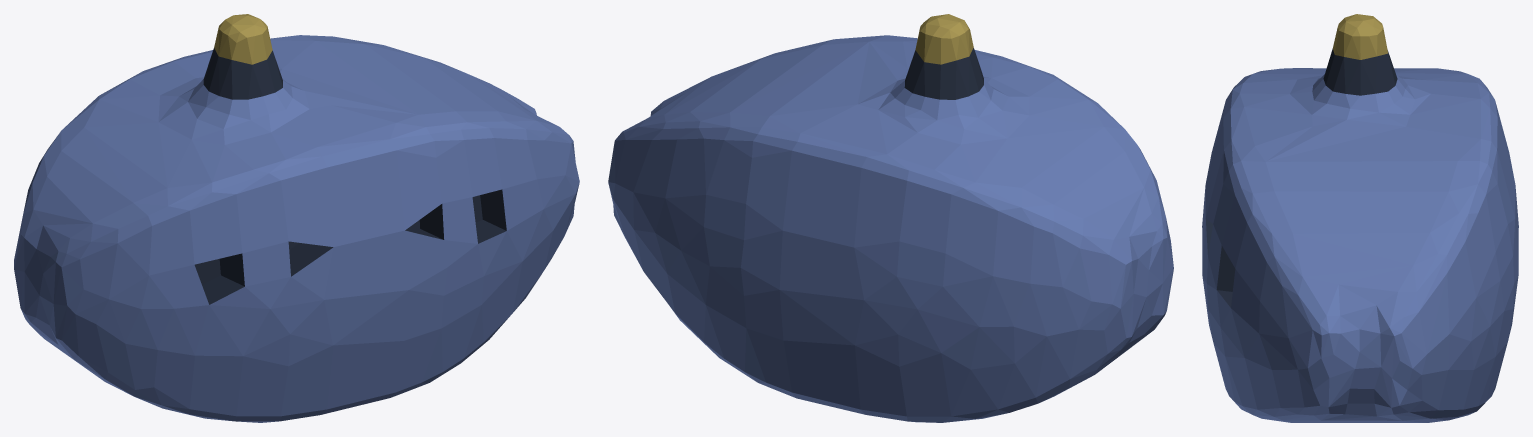
The model's file is ocarina nivel 1 .fbx.
3 renders of one model, left to right at view 1: azimuth 30°, elevation 25°; view 2: azimuth 150°, elevation 25°; view 3: azimuth 270°, elevation 25°, orthographic. The views are drawn at different scales.
Visible parts, largest first — view 1: ocarin a completa; view 2: ocarin a completa; view 3: ocarin a completa.
Boxes of the visible parts, x1,y1,x2,y2 form: ocarin a completa: (14,14,579,422); ocarin a completa: (608,14,1173,422); ocarin a completa: (1202,14,1518,422).
Bounding box in the file's own units: 401 × 263 × 225.
